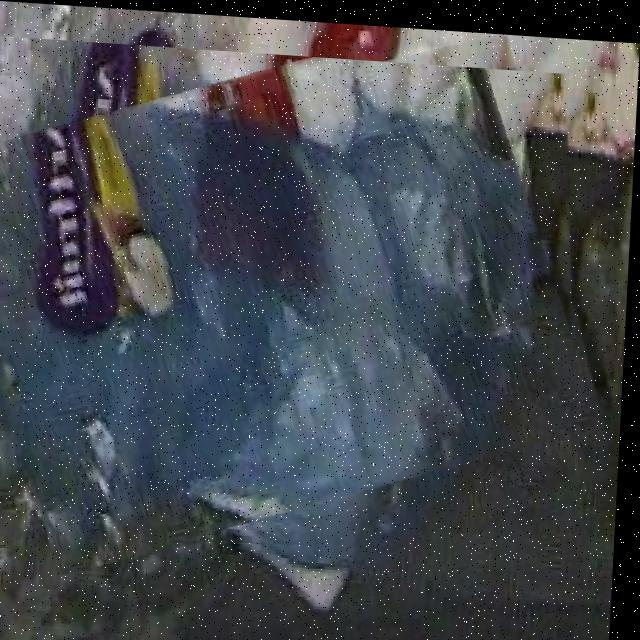litter: (0, 35, 603, 564)
